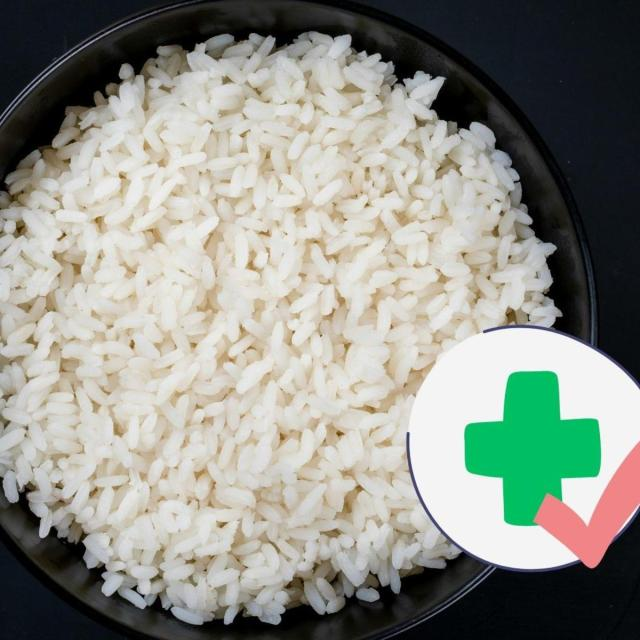arroz: (2, 29, 418, 636)
